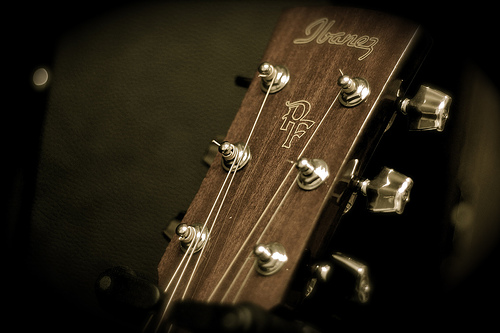guitar: (139, 4, 433, 329)
